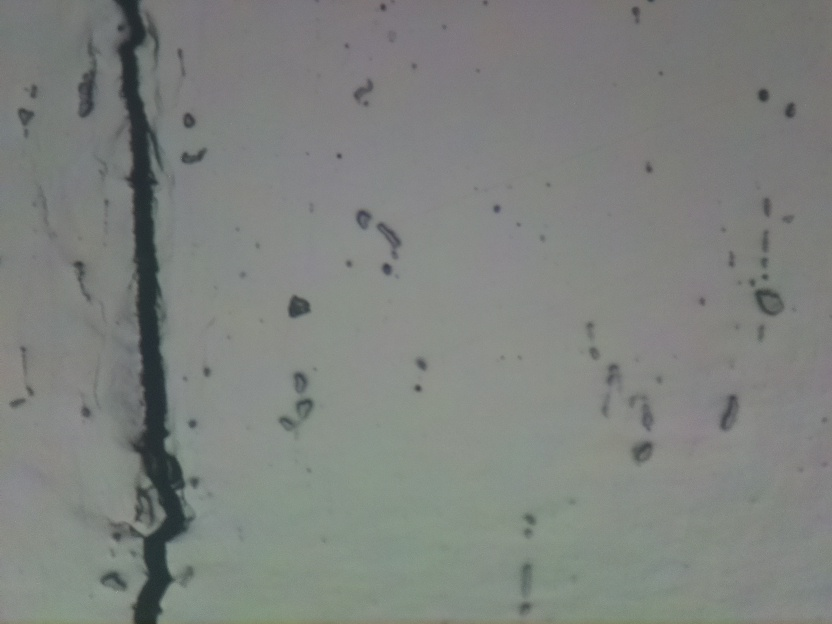crack: (119, 0, 194, 622)
